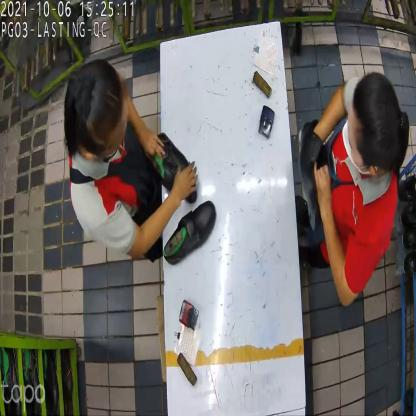shoes: (148, 134, 209, 258)
stamp: (256, 107, 277, 143), (181, 297, 199, 330)
